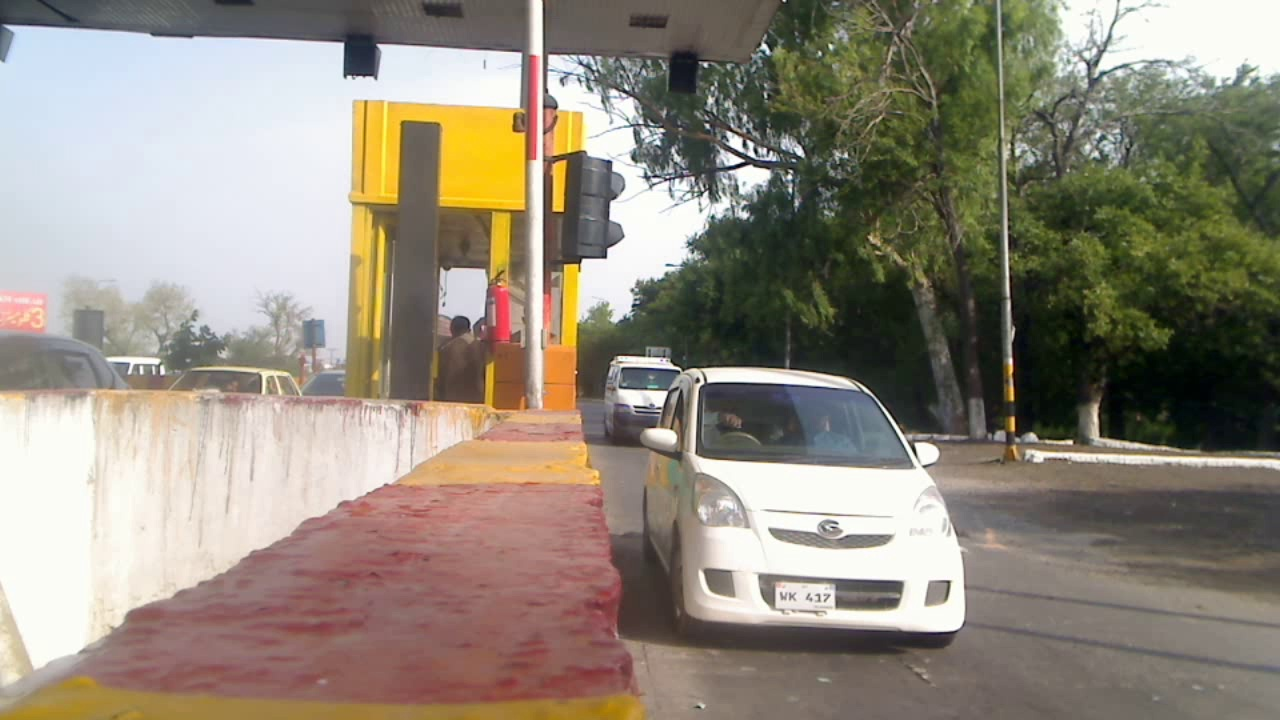Number Plate (Car): (777, 583, 835, 609)
